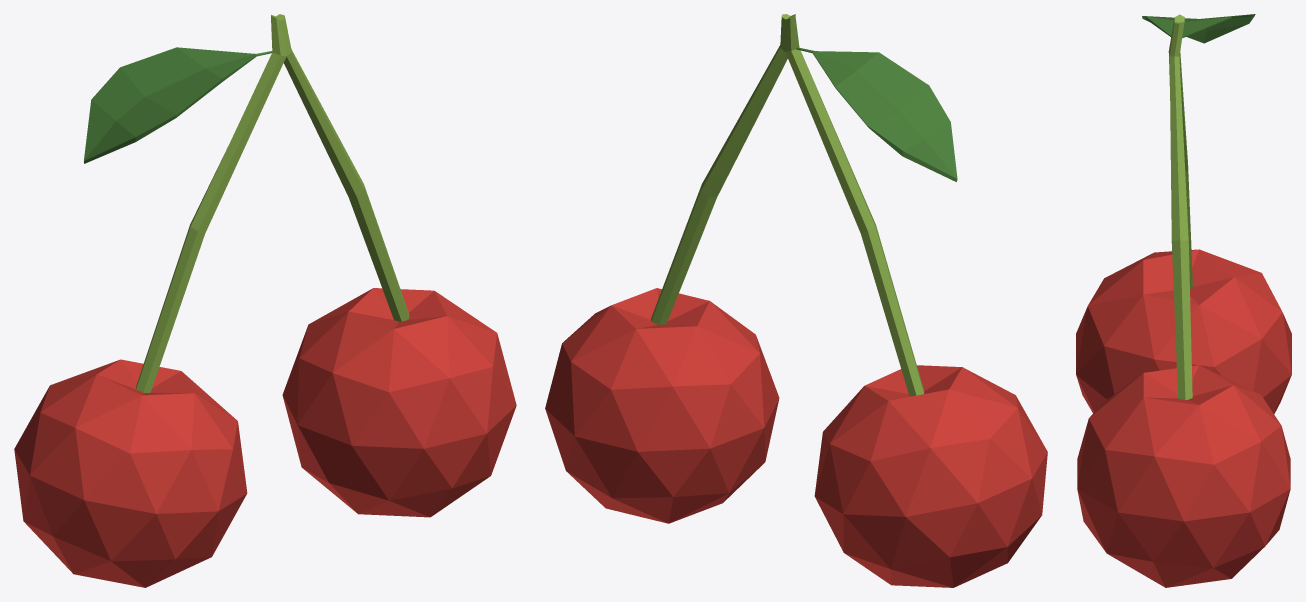
File: Cherry_01.fbx
3 views of the same model, side by side, from view 1: azimuth 30°, elevation 25°; view 2: azimuth 150°, elevation 25°; view 3: azimuth 270°, elevation 25° (orthographic). The views are drawn at different scales.
Parts seen in each view (by area): view 1: Cherry_01; view 2: Cherry_01; view 3: Cherry_01.
Boxes of the visible parts, left/top/right/bottom form: Cherry_01: left=14, top=14, right=516, bottom=587; Cherry_01: left=545, top=14, right=1047, bottom=587; Cherry_01: left=1076, top=14, right=1291, bottom=587.
Size of the model in its own units: 11.81 by 12.53 by 4.91.
